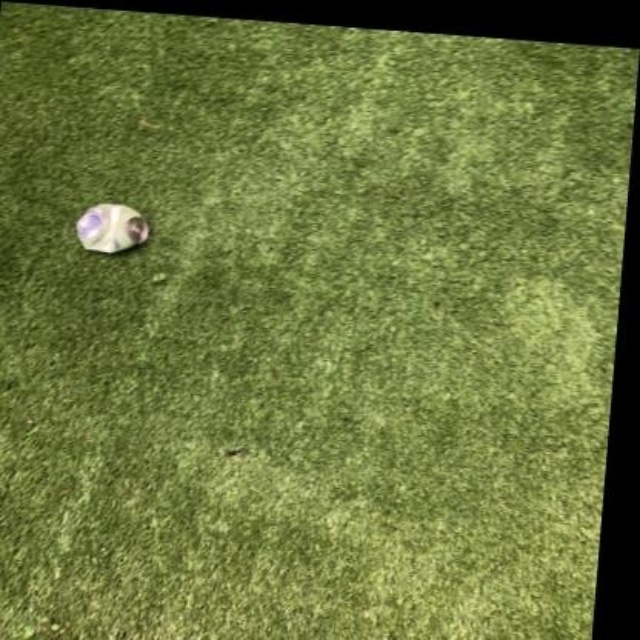trash: (77, 203, 148, 252)
